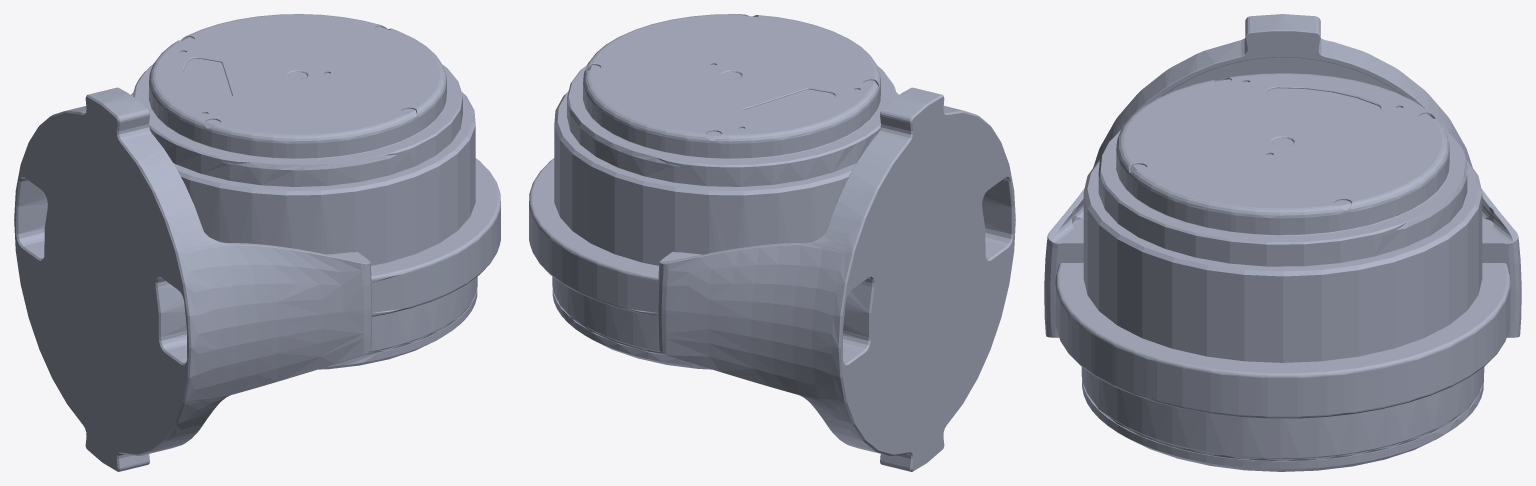
File: right_hip_roll_link.obj
3 views of the same model, side by side, from view 1: azimuth 30°, elevation 25°; view 2: azimuth 150°, elevation 25°; view 3: azimuth 270°, elevation 25° (orthographic). The views are drawn at different scales.
Visible parts, largest first — view 1: right_hip_roll_link-mesh; view 2: right_hip_roll_link-mesh; view 3: right_hip_roll_link-mesh.
Part boxes in pixels (left/top/right/bottom): right_hip_roll_link-mesh: left=14, top=14, right=500, bottom=471; right_hip_roll_link-mesh: left=529, top=14, right=1015, bottom=471; right_hip_roll_link-mesh: left=1044, top=14, right=1521, bottom=471.
Size of the model in its own units: 0.1289 by 0.119 by 0.1281.
